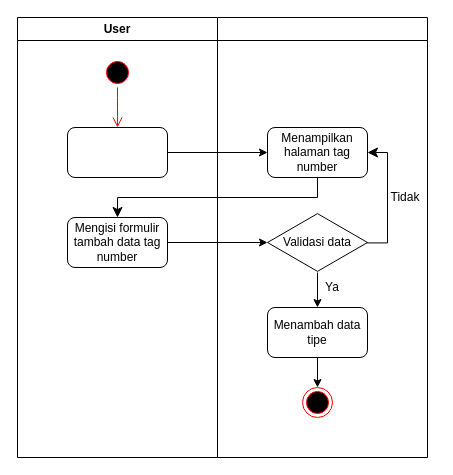
This 453x475 diagram has some shape labels left out. The box of each missing label's shape, as (x1, y1, x2, y2) in pixels:
Membuka halaman tambah tag number: (66, 126, 168, 178)
Sistem: (216, 16, 428, 458)
